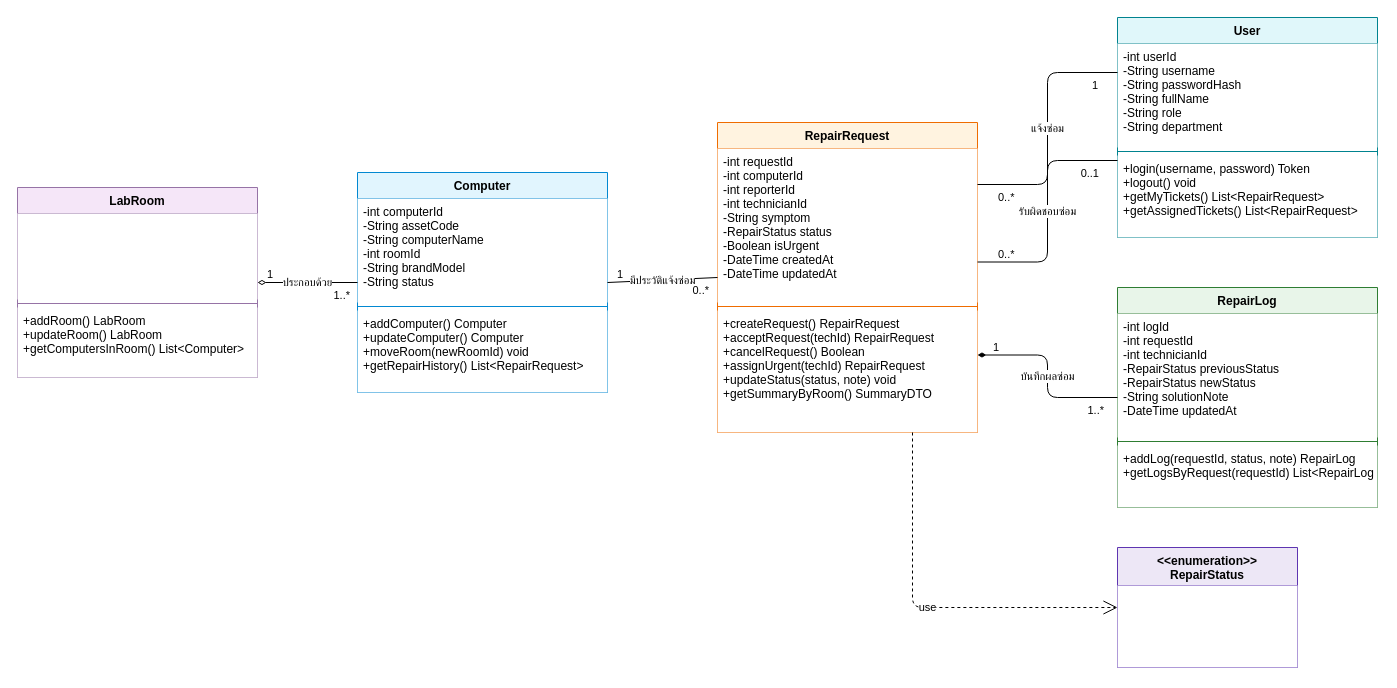
This 1397x688 diagram has some shape labels left out. The centre of each missing label's shape, as x and y in pixels:
"-int roomId -String roomCode -String roomName -String building -int floor" belongs at (137,256).
"PENDING IN_PROGRESS WAITING_PARTS COMPLETED" belongs at (1207,626).
